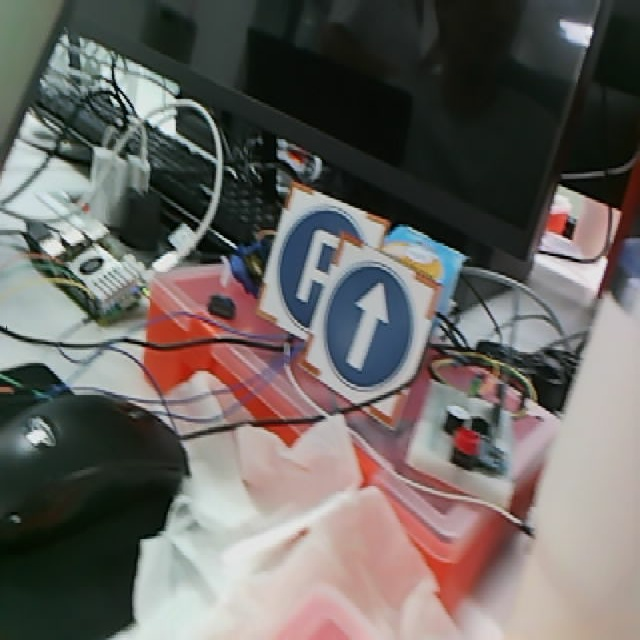parking: (256, 176, 391, 344)
strait: (292, 234, 439, 428)
